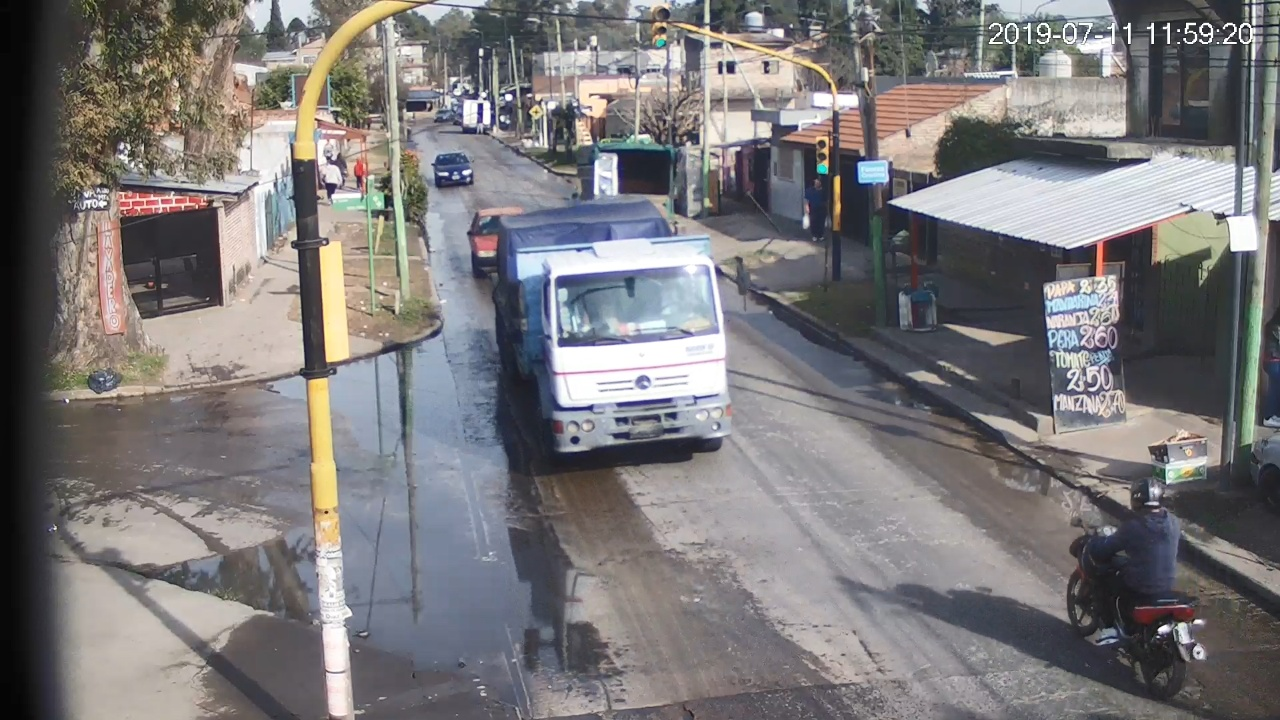motorcycle: (1067, 477, 1206, 697)
traffic light: (652, 5, 668, 48), (816, 137, 829, 174)
